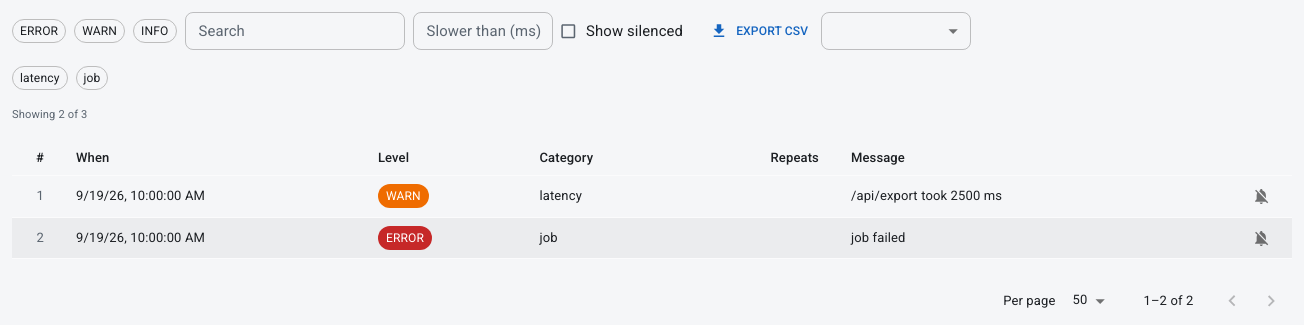
Scenario: AlertsPanel › filters by level
Step 1. Click the button with aria-label "Only ERROR" → (39, 31), box [12,19,66,43]
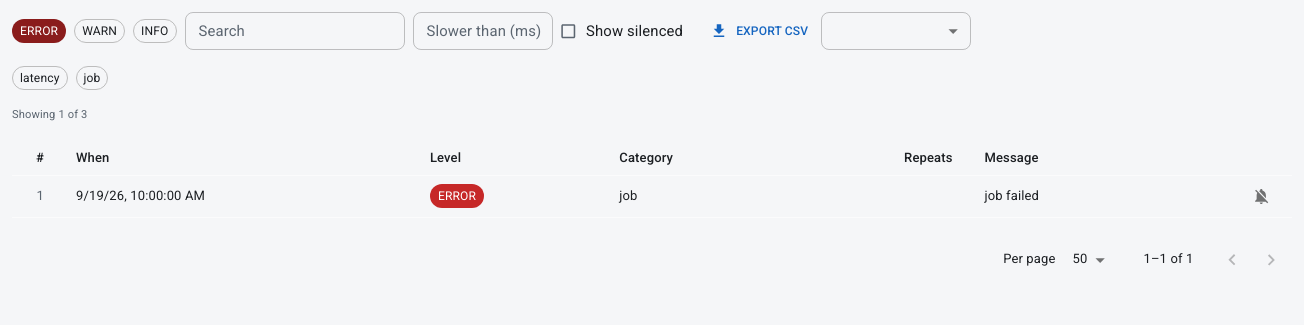
Expected: the text "job failed" is shown, [984,188,1039,203]
Result: the text "/api/export took 2500 ms" is gone
